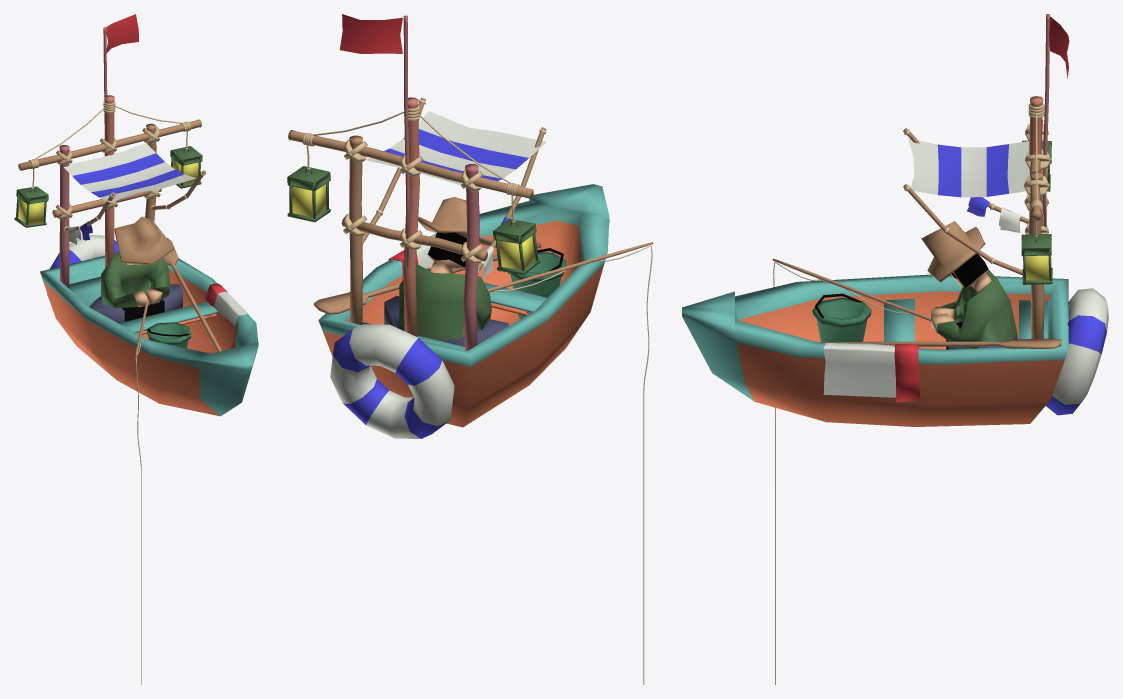
The model's file is boat.glb.
3 renders of one model, left to right at view 1: azimuth 30°, elevation 25°; view 2: azimuth 150°, elevation 25°; view 3: azimuth 270°, elevation 25°, orthographic. The views are drawn at different scales.
Visible parts, largest first — view 1: Boat; view 2: Boat; view 3: Boat.
Part boxes in pixels (x1,y1,x2,y2): Boat: [14, 14, 258, 684]; Boat: [287, 14, 653, 684]; Boat: [682, 14, 1108, 684].
Size of the model in its own units: 4.31 by 12.82 by 6.94.
Materials: 1 (1 with a texture image).
